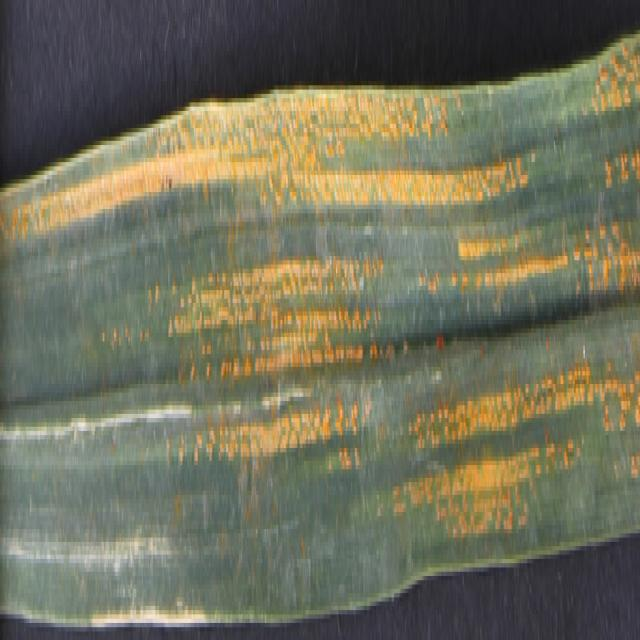leaf rust: (3, 4, 639, 542)
